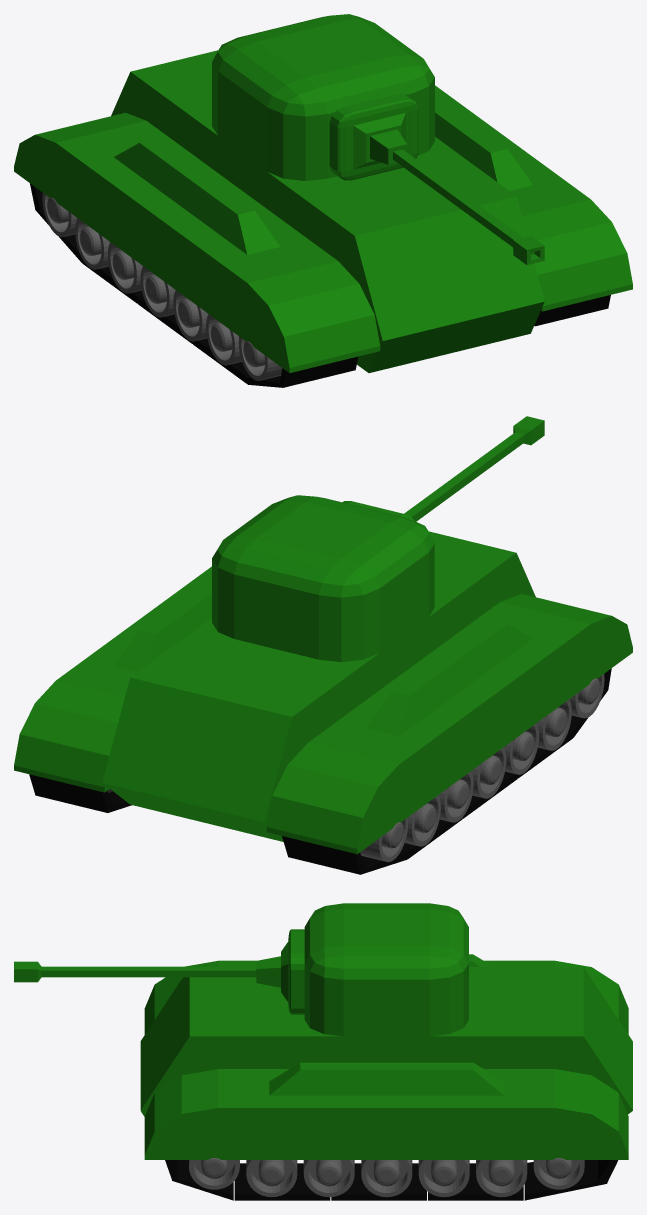
File: Misailver2 1.fbx
3 renders of one model, top to bottom at view 1: azimuth 30°, elevation 25°; view 2: azimuth 150°, elevation 25°; view 3: azimuth 270°, elevation 25°, orthographic. The views are drawn at different scales.
Parts seen in each view (by area): view 1: Cube, Cube.005, Cube.001, Cube.003, GUN, Cube.006, Cylinder.009, Cylinder.007, Cylinder.008, Cylinder.012, Cylinder.011, Cylinder.010 (+2 smaller); view 2: Cube, Cube.005, Cube.001, Cube.003, Cube.006, GUN, Cube.004, Cylinder.012, Cylinder.007, Cylinder.011, Cylinder.009, Cylinder.008 (+2 smaller); view 3: Cube.003, Cube, Cube.001, Cube.004, GUN, Cube.005, Cylinder, Cylinder.004, Cylinder.002, Cylinder.001, Cylinder.005, Cylinder.006 (+1 smaller).
Part boxes in pixels (x1,y1,x2,y2): Cube: [111, 50, 544, 372]; Cube.005: [14, 112, 380, 373]; Cube.001: [212, 14, 434, 180]; Cube.003: [435, 85, 632, 311]; GUN: [329, 94, 544, 264]; Cube.006: [30, 183, 358, 387]; Cylinder.009: [206, 314, 241, 365]; Cylinder.007: [140, 266, 175, 317]; Cylinder.008: [173, 290, 208, 341]; Cylinder.012: [75, 218, 109, 269]; Cylinder.011: [108, 242, 142, 293]; Cylinder.010: [238, 336, 282, 380]; Cube: [102, 531, 535, 841]; Cube.005: [266, 593, 632, 854]; Cube.001: [212, 495, 434, 662]; Cube.003: [14, 566, 211, 792]; Cube.006: [282, 668, 611, 874]; GUN: [342, 416, 544, 521]; Cube.004: [29, 774, 131, 812]; Cylinder.012: [404, 795, 440, 846]; Cylinder.007: [471, 747, 506, 798]; Cylinder.011: [438, 771, 473, 822]; Cylinder.009: [537, 699, 571, 750]; Cylinder.008: [504, 723, 538, 774]; Cube.003: [144, 1062, 628, 1159]; Cube: [140, 967, 632, 1116]; Cube.001: [304, 903, 468, 1036]; Cube.004: [165, 1160, 618, 1200]; GUN: [14, 929, 304, 1014]; Cube.005: [144, 954, 628, 1034]; Cylinder: [361, 1160, 412, 1197]; Cylinder.004: [418, 1160, 469, 1197]; Cylinder.002: [246, 1160, 297, 1197]; Cylinder.001: [303, 1160, 354, 1197]; Cylinder.005: [476, 1160, 527, 1197]; Cylinder.006: [533, 1158, 584, 1189].
Bounding box in the file's own units: 428 × 274 × 754.
